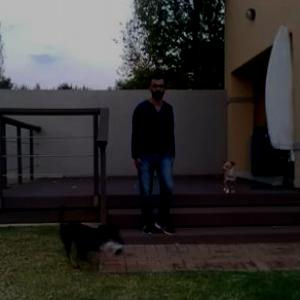follow: (130, 74, 174, 261)
